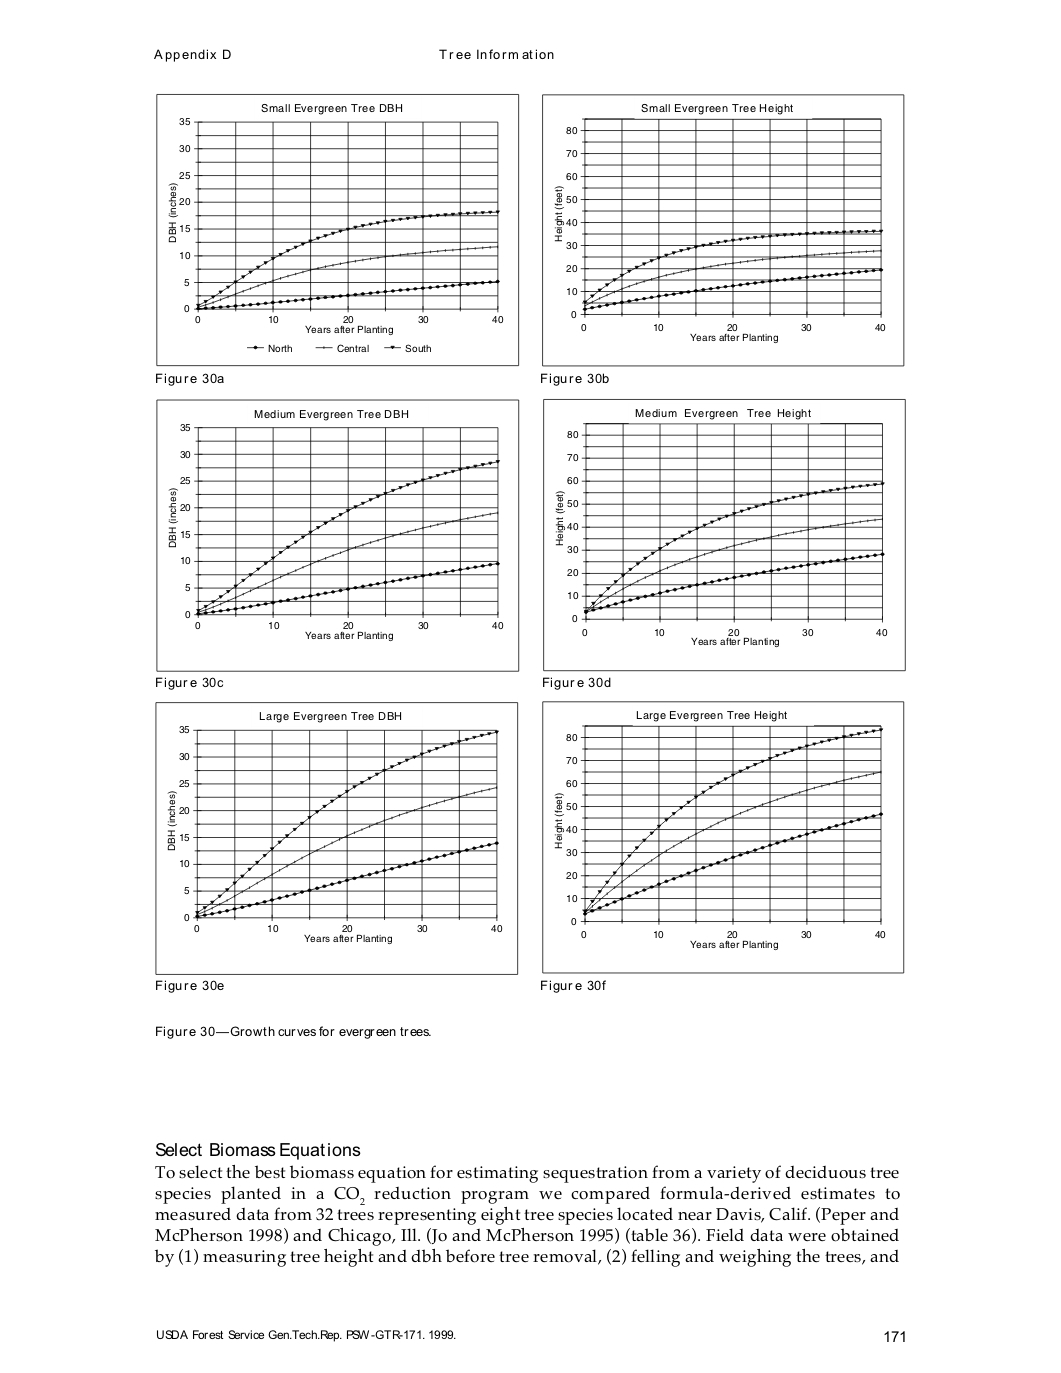figure: (156, 92, 519, 367), (156, 398, 519, 672), (155, 701, 518, 975), (542, 92, 904, 367), (543, 398, 905, 672), (542, 700, 904, 974)
